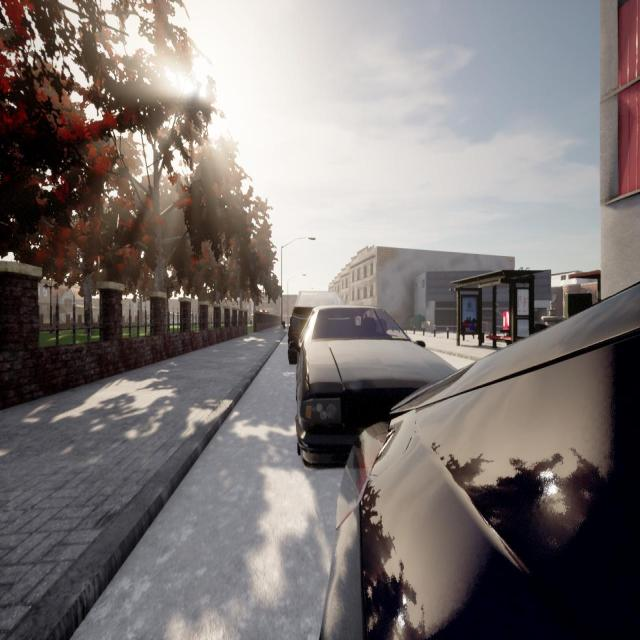Vehicle: (321, 286, 640, 640), (289, 304, 460, 468), (288, 291, 347, 365)
